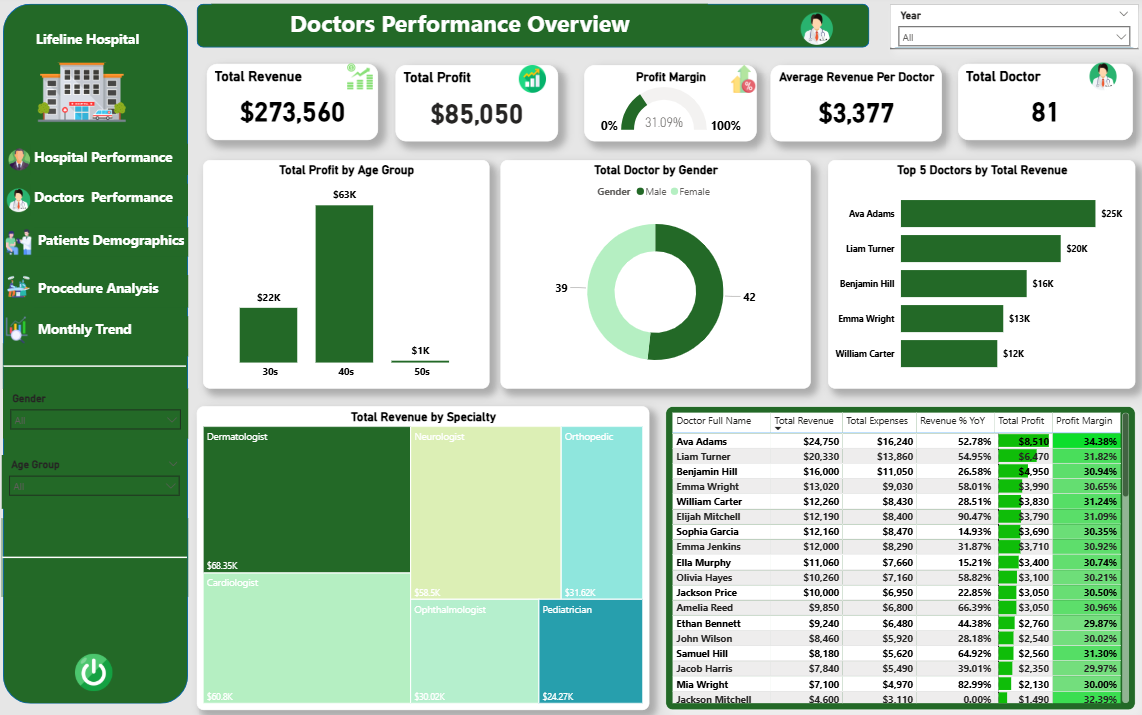

This screenshot's page, from the dashboard's own definition file:
{"tool":"powerbi","page":{"name":"Doctors","canvas":[1600,1000],"ordinal":1},"visuals":[{"type":"card","title":"Total Revenue","fields":{"Values":["Measure_Table.Total Revenue"]},"box":[295.4,95,236.7,105.4],"z":0},{"type":"card","title":"Total Profit","fields":{"Values":["Measure_Table.Total Profit"]},"box":[556.3,96.8,224.6,105.4],"z":1000},{"type":"gauge","fields":{"Y":["Measure_Table.Profit Margin"]},"box":[817.2,96.8,238.4,105.4],"z":2000},{"type":"shape","box":[13.8,12.1,255.7,976.2],"z":3000},{"type":"shape","box":[281.6,12.1,929.5,60.5],"z":4000},{"type":"image","box":[708.4,96.8,74.3,38],"z":5000},{"type":"image","box":[482,93.3,50.1,38],"z":6000},{"type":"image","box":[1017.6,96.8,38,38],"z":7000},{"type":"image","box":[20.7,205.6,31.1,43.2],"z":8000},{"type":"image","box":[48.4,69.1,148.6,127.9],"z":9000},{"type":"textbox","box":[22.5,43.2,216,50.1],"z":10000},{"type":"image","box":[81.2,908.8,115.8,55.3],"z":11000},{"type":"image","box":[19,260.9,32.8,44.9],"z":12000},{"type":"image","box":[13.8,321.4,43.2,39.7],"z":13000},{"type":"image","box":[13.8,387,43.2,32.8],"z":14000},{"type":"image","box":[13.8,444,38,38],"z":15000},{"type":"shape","box":[1240.5,13.8,342.1,60.5],"z":16000},{"type":"textbox","box":[302.4,12.1,685.9,57],"z":17000},{"type":"textbox","box":[51.8,205.6,217.7,43.2],"z":18000},{"type":"textbox","box":[51.8,260.9,217.7,44.9],"z":19000},{"type":"textbox","box":[57,321.4,212.5,39.7],"z":20000},{"type":"textbox","box":[57,387,212.5,44.9],"z":21000},{"type":"textbox","box":[57,444,212.5,55.3],"z":22000},{"type":"shape","box":[13.8,482,254,62.2],"z":23000},{"type":"shape","box":[12.1,723.9,257.4,107.1],"z":24000},{"type":"card","title":"Average Revenue Per Doctor","fields":{"Values":["Measure_Table.Average Revenue Per Doctor"]},"box":[1074.6,96.8,236.7,105.4],"z":25000},{"type":"card","title":"Total Doctor","fields":{"Values":["Measure_Table.Total Doctors"]},"box":[1333.8,95,241.9,105.4],"z":26000},{"type":"image","box":[1508.3,93.3,51.8,38],"z":27000},{"type":"clusteredColumnChart","title":"Total Profit by  Age Group","fields":{"Y":["Measure_Table.Total Profit"],"Category":["Dim_Doctors_table.Doctors_Age_Group"]},"box":[290.3,228.1,395.6,316.2],"z":28000},{"type":"donutChart","title":"Total Doctor by Gender","fields":{"Y":["Measure_Table.Total Doctors"],"Category":["Dim_Doctors_table.Doctor_Gender"]},"box":[701.5,228.1,428.5,316.2],"z":29000},{"type":"clusteredBarChart","title":"Top 5 Doctors by Total Revenue","fields":{"Category":["Dim_Doctors_table.Full Name"],"Y":["Measure_Table.Total Revenue"]},"box":[1154.1,228.1,425,316.2],"z":30000},{"type":"treemap","fields":{"Group":["Dim_Doctors_table.Specialty"],"Values":["Measure_Table.Total Revenue"]},"box":[281.6,568.4,625.4,419.8],"z":31000},{"type":"tableEx","fields":{"Values":["Dim_Doctors_table.Full Name","Measure_Table.Total Revenue","Measure_Table.Total Expenses","Measure_Table.Revenue % YoY","Measure_Table.Total Profit","Measure_Table.Profit Margin"]},"box":[929.5,568.4,649.6,419.8],"z":32000},{"type":"image","box":[1107.5,24.2,62.2,44.9],"z":33000},{"type":"slicer","fields":{"Values":["Dim_Patients_Table.Age_Group"]},"box":[12.1,635.8,255.7,74.3],"z":34000},{"type":"slicer","fields":{"Values":["Dim_Patients_Table.Patients_Gender"]},"box":[13.8,544.2,255.7,69.1],"z":35000},{"type":"slicer","fields":{"Values":["DateTable.Year"]},"box":[1240.5,13.8,342.1,58.7],"z":36000}]}

Visuals, with their boxes in screenshot pixels (x1, y1, x2, y2), scaled from the page's 1600x1000 canvas onto the 1142x715 screenshot:
"Total Revenue" card: pyautogui.locateOnScreen(211, 68, 380, 143)
"Total Profit" card: pyautogui.locateOnScreen(397, 69, 557, 145)
gauge - Measure_Table.Profit Margin: pyautogui.locateOnScreen(583, 69, 753, 145)
shape: pyautogui.locateOnScreen(10, 9, 192, 707)
shape: pyautogui.locateOnScreen(201, 9, 864, 52)
image: pyautogui.locateOnScreen(506, 69, 559, 96)
image: pyautogui.locateOnScreen(344, 67, 380, 94)
image: pyautogui.locateOnScreen(726, 69, 753, 96)
image: pyautogui.locateOnScreen(15, 147, 37, 178)
image: pyautogui.locateOnScreen(35, 49, 141, 141)
textbox: pyautogui.locateOnScreen(16, 31, 170, 67)
image: pyautogui.locateOnScreen(58, 650, 141, 689)
image: pyautogui.locateOnScreen(14, 187, 37, 219)
image: pyautogui.locateOnScreen(10, 230, 41, 258)
image: pyautogui.locateOnScreen(10, 277, 41, 300)
image: pyautogui.locateOnScreen(10, 317, 37, 345)
shape: pyautogui.locateOnScreen(885, 10, 1130, 53)
textbox: pyautogui.locateOnScreen(216, 9, 705, 49)
textbox: pyautogui.locateOnScreen(37, 147, 192, 178)
textbox: pyautogui.locateOnScreen(37, 187, 192, 219)
textbox: pyautogui.locateOnScreen(41, 230, 192, 258)
textbox: pyautogui.locateOnScreen(41, 277, 192, 309)
textbox: pyautogui.locateOnScreen(41, 317, 192, 357)
shape: pyautogui.locateOnScreen(10, 345, 191, 389)
shape: pyautogui.locateOnScreen(9, 518, 192, 594)
"Average Revenue Per Doctor" card: pyautogui.locateOnScreen(767, 69, 936, 145)
"Total Doctor" card: pyautogui.locateOnScreen(952, 68, 1125, 143)
image: pyautogui.locateOnScreen(1077, 67, 1114, 94)
"Total Profit by  Age Group" clusteredColumnChart: pyautogui.locateOnScreen(207, 163, 490, 389)
"Total Doctor by Gender" donutChart: pyautogui.locateOnScreen(501, 163, 807, 389)
"Top 5 Doctors by Total Revenue" clusteredBarChart: pyautogui.locateOnScreen(824, 163, 1127, 389)
treemap - Dim_Doctors_table.Specialty x Measure_Table.Total Revenue: pyautogui.locateOnScreen(201, 406, 647, 707)
tableEx - Dim_Doctors_table.Full Name x Measure_Table.Total Revenue: pyautogui.locateOnScreen(663, 406, 1127, 707)
image: pyautogui.locateOnScreen(790, 17, 835, 49)
slicer - Dim_Patients_Table.Age_Group: pyautogui.locateOnScreen(9, 455, 191, 508)
slicer - Dim_Patients_Table.Patients_Gender: pyautogui.locateOnScreen(10, 389, 192, 439)
slicer - DateTable.Year: pyautogui.locateOnScreen(885, 10, 1130, 52)
